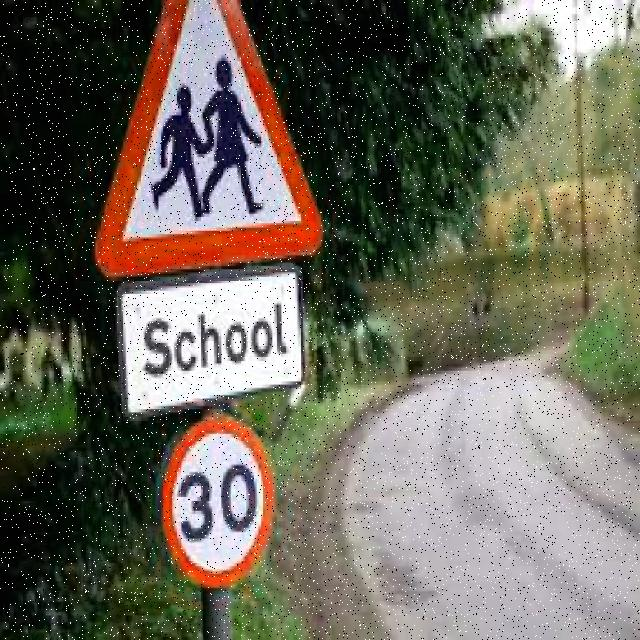Ograniczenie predkosci do 30: (161, 406, 270, 594)
